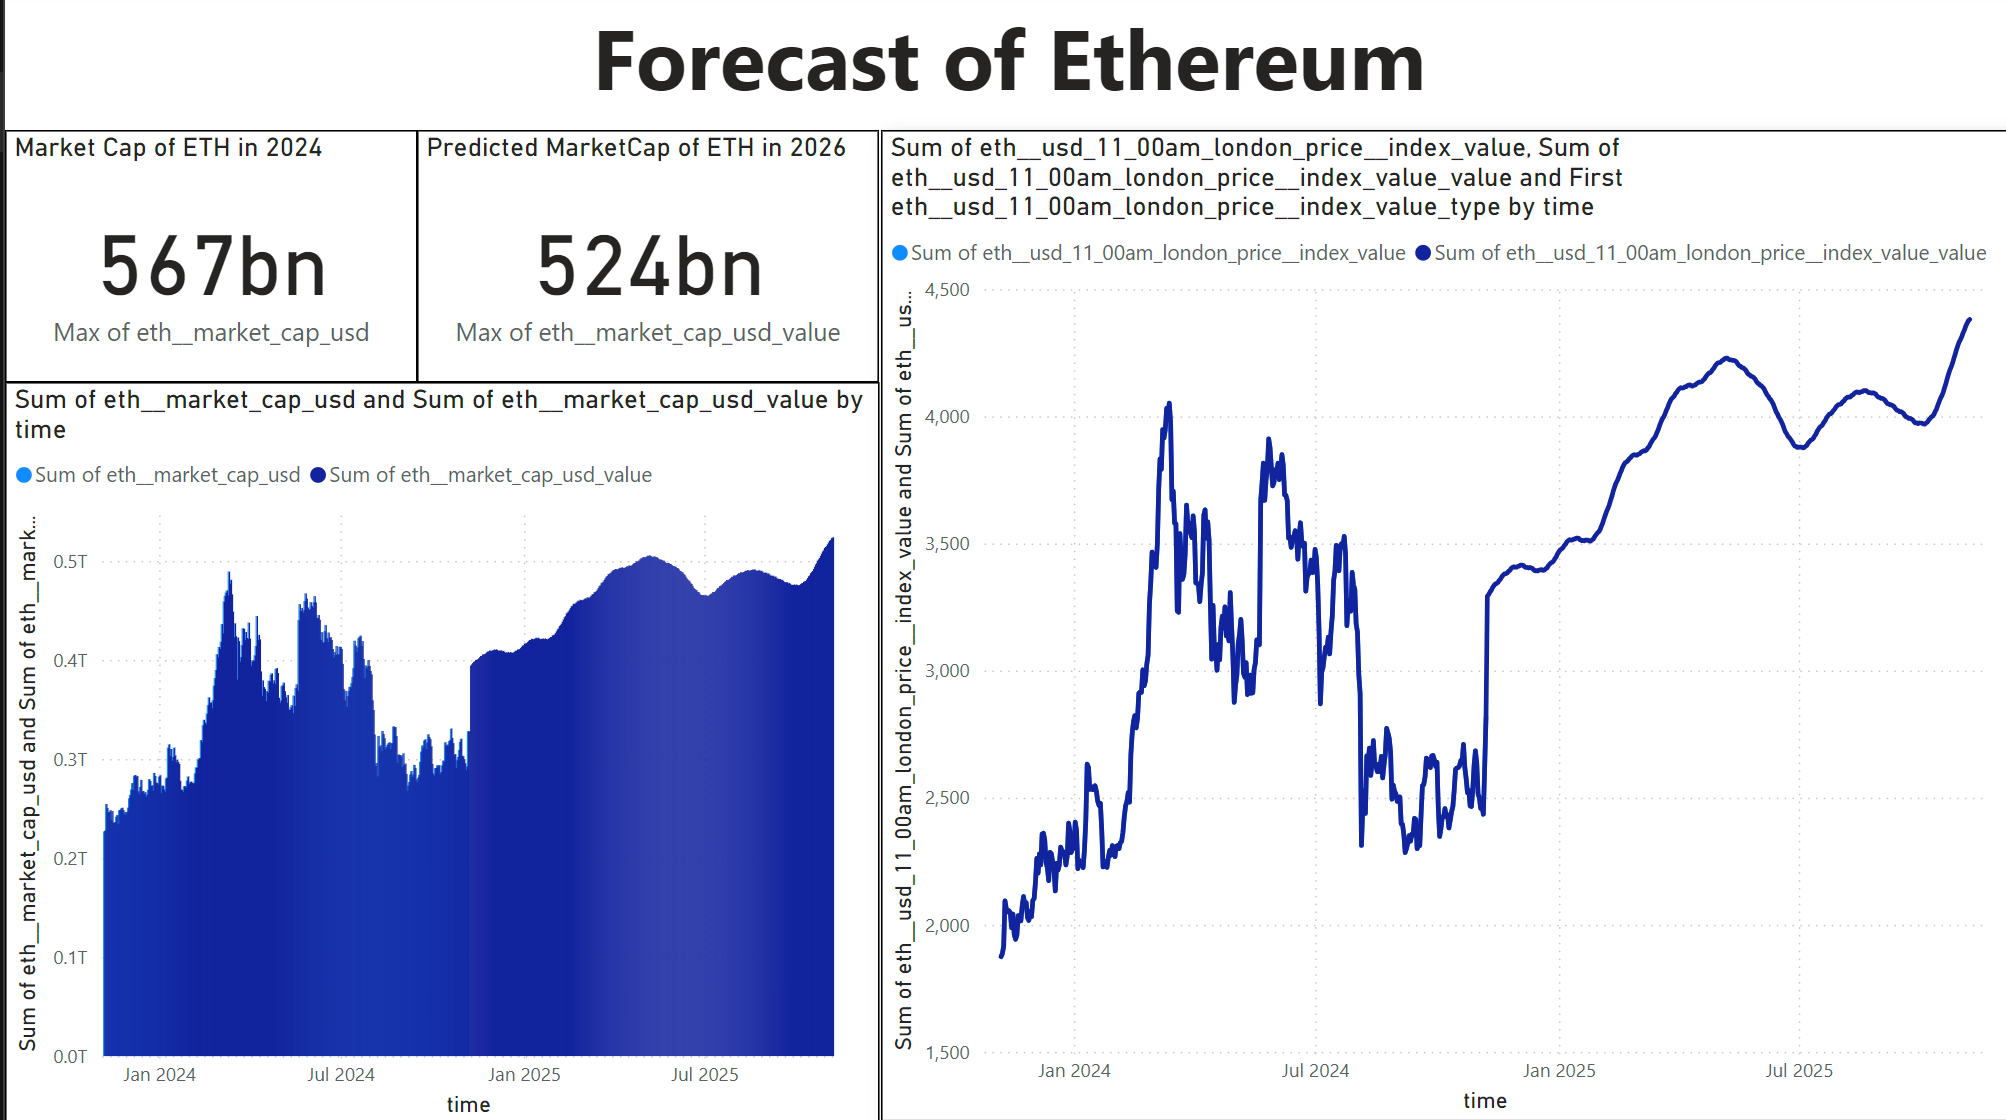

What the dashboard file says about the page in this screenshot:
{"tool":"powerbi","page":{"name":"ETH","canvas":[1280,720],"ordinal":1},"visuals":[{"type":"card","title":"Market Cap of ETH in 2024","fields":{"Values":["Max(cleaned_dataset.eth__market_cap_usd)"]},"box":[0,87.7,263.1,160.8],"z":0},{"type":"card","title":"Predicted MarketCap of ETH in 2026","fields":{"Values":["Max(prophet_historical_and_next_year.eth__market_cap_usd_value)"]},"box":[263.1,87.7,294.4,160.8],"z":1000},{"type":"textbox","box":[0,0,1280,87.7],"z":2000},{"type":"clusteredColumnChart","fields":{"Y":["Sum(cleaned_dataset.eth__market_cap_usd)","Sum(prophet_historical_and_next_year.eth__market_cap_usd_value)"],"Category":["prophet_historical_and_next_year.time"]},"box":[0,248.5,557.5,474],"z":3000},{"type":"lineChart","fields":{"Y":["Sum(cleaned_dataset.eth__usd_11_00am_london_price__index_value)","Sum(prophet_historical_and_next_year.eth__usd_11_00am_london_price__index_value_value)"],"Category":["prophet_historical_and_next_year.time"]},"box":[558,88,722,632],"z":4000}]}

Visuals, with their boxes in screenshot pixels (x1, y1, x2, y2), scaled from the page's 1280x720 canvas onto the 2006x1120 screenshot:
"Market Cap of ETH in 2024" card: locate(0, 136, 412, 387)
"Predicted MarketCap of ETH in 2026" card: locate(412, 136, 874, 387)
textbox: locate(0, 0, 2005, 136)
clusteredColumnChart - Sum(cleaned_dataset.eth__market_cap_usd) x Sum(prophet_historical_and_next_year.eth__market_cap_usd_value): locate(0, 387, 874, 1119)
lineChart - Sum(cleaned_dataset.eth__usd_11_00am_london_price__index_value) x Sum(prophet_historical_and_next_year.eth__usd_11_00am_london_price__index_value_value): locate(874, 137, 2005, 1119)
